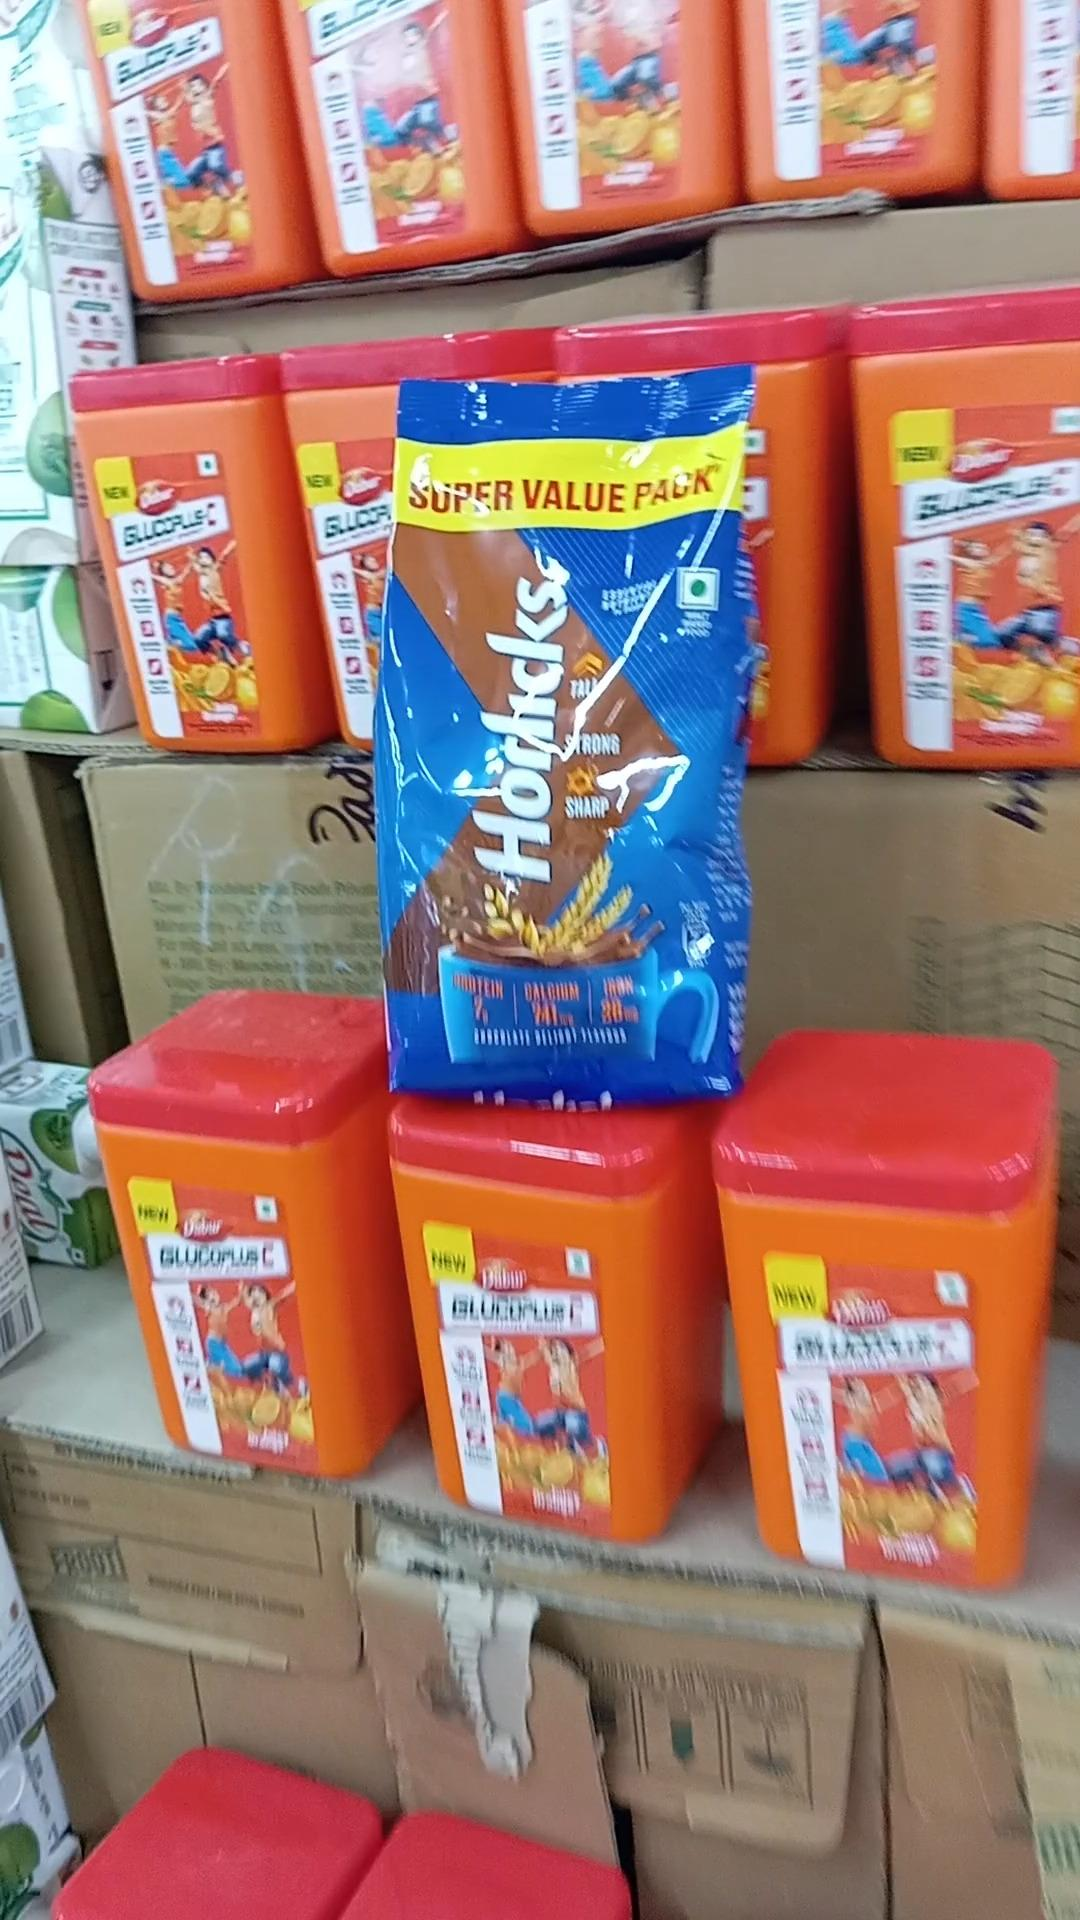HORLICK_CHOCOLATE_750_G_POUCH: (394, 377, 737, 1117)
